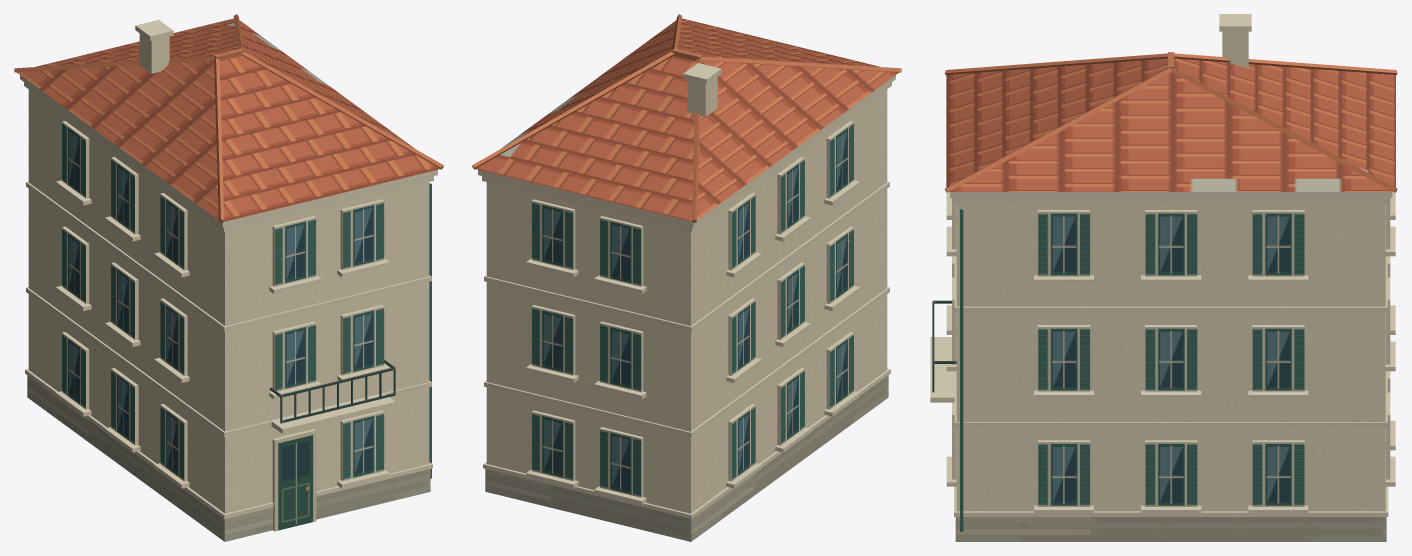
Rendered from SM_QD_H_DeepResidence.fbx.
The picture shows the model from 3 angles, left to right: view 1: azimuth 30°, elevation 25°; view 2: azimuth 150°, elevation 25°; view 3: azimuth 270°, elevation 25°; orthographic projection. The views are drawn at different scales.
Visible parts, largest first — view 1: SM_QD_H_DeepResidence; view 2: SM_QD_H_DeepResidence; view 3: SM_QD_H_DeepResidence.
Part boxes in pixels (x1=…): SM_QD_H_DeepResidence: x1=14, y1=14, x2=443, y2=541; SM_QD_H_DeepResidence: x1=472, y1=14, x2=901, y2=541; SM_QD_H_DeepResidence: x1=930, y1=14, x2=1397, y2=541.
Size of what is drawn, in the model's own units: 5.94 by 9.81 by 10.26.
1 material, 1 textured.
